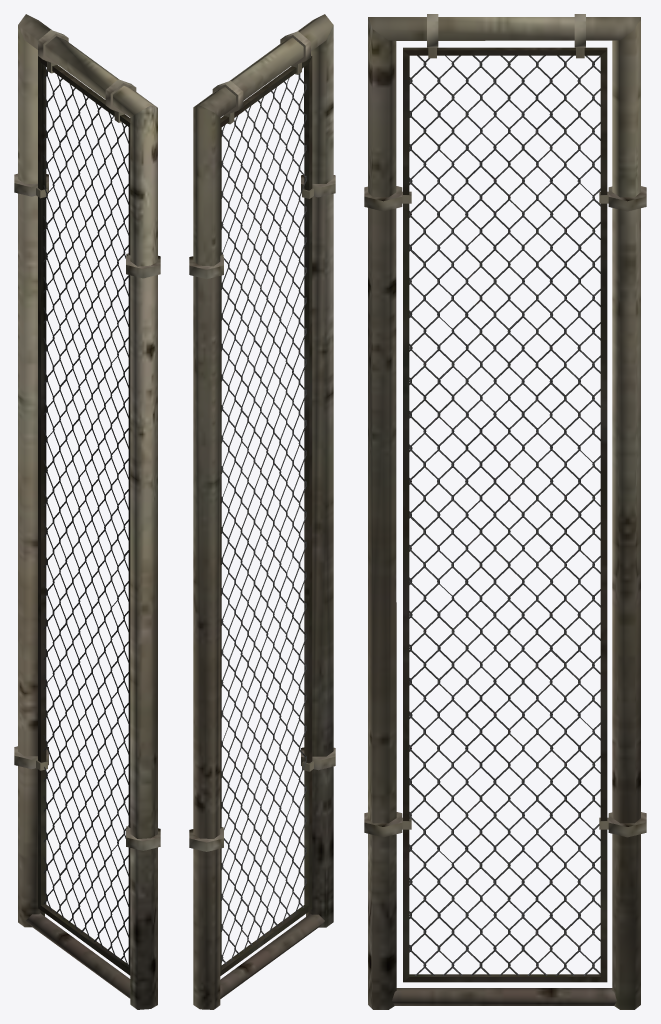
The model's file is interior_fence002a.glb.
3 renders of one model, left to right at view 1: azimuth 30°, elevation 25°; view 2: azimuth 150°, elevation 25°; view 3: azimuth 270°, elevation 25°, orthographic. The views are drawn at different scales.
Visible parts, largest first — view 1: 0_prison_yard001, 1_fence_alpha; view 2: 0_prison_yard001, 1_fence_alpha; view 3: 0_prison_yard001, 1_fence_alpha.
Part boxes in pixels (left/top/right/bottom): 0_prison_yard001: left=14, top=14, right=160, bottom=1009; 1_fence_alpha: left=43, top=65, right=128, bottom=966; 0_prison_yard001: left=189, top=14, right=335, bottom=1009; 1_fence_alpha: left=221, top=73, right=306, bottom=964; 0_prison_yard001: left=364, top=14, right=646, bottom=1009; 1_fence_alpha: left=409, top=55, right=600, bottom=975.
Size of the model in its own units: 0.1313 by 3.27 by 0.8435.
Materials: 2 (2 with a texture image).
